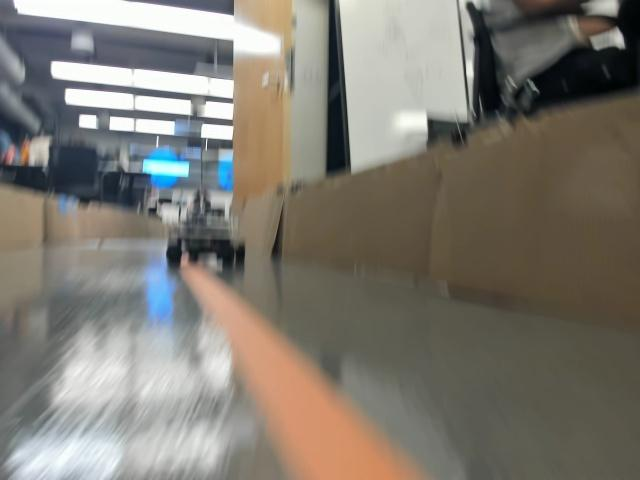Car: (164, 208, 244, 264)
